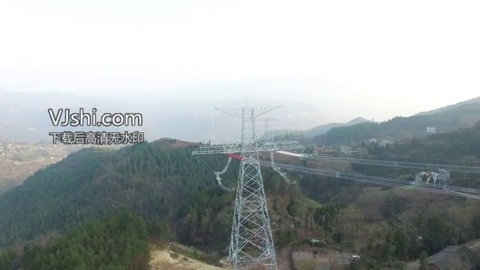tower_body: (197, 102, 301, 270)
tower_foot: (226, 231, 279, 267)
tower_head: (210, 104, 288, 121)
